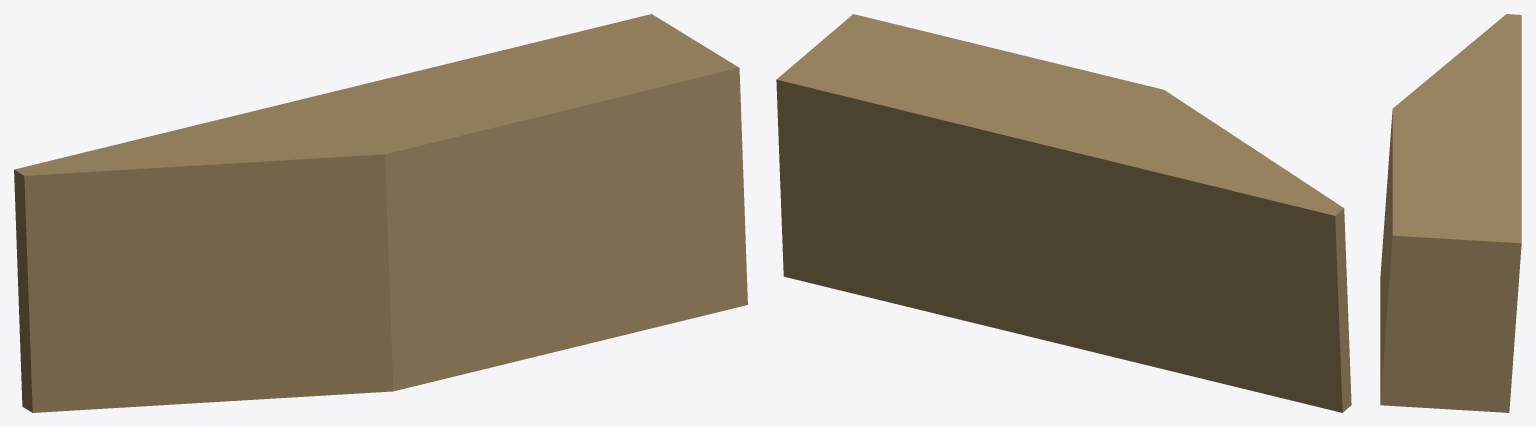
File: Texture.256.dae
The picture shows the model from 3 angles, left to right: view 1: azimuth 30°, elevation 25°; view 2: azimuth 150°, elevation 25°; view 3: azimuth 270°, elevation 25°; orthographic projection. The views are drawn at different scales.
Visible parts, largest first — view 1: tmp_export_Texture.256; view 2: tmp_export_Texture.256; view 3: tmp_export_Texture.256.
Part boxes in pixels (left/top/right/bottom): tmp_export_Texture.256: left=14, top=14, right=747, bottom=412; tmp_export_Texture.256: left=776, top=14, right=1351, bottom=412; tmp_export_Texture.256: left=1380, top=14, right=1521, bottom=412.
Bounding box in the file's own units: 0.0788 × 0.0206 × 0.0285.
